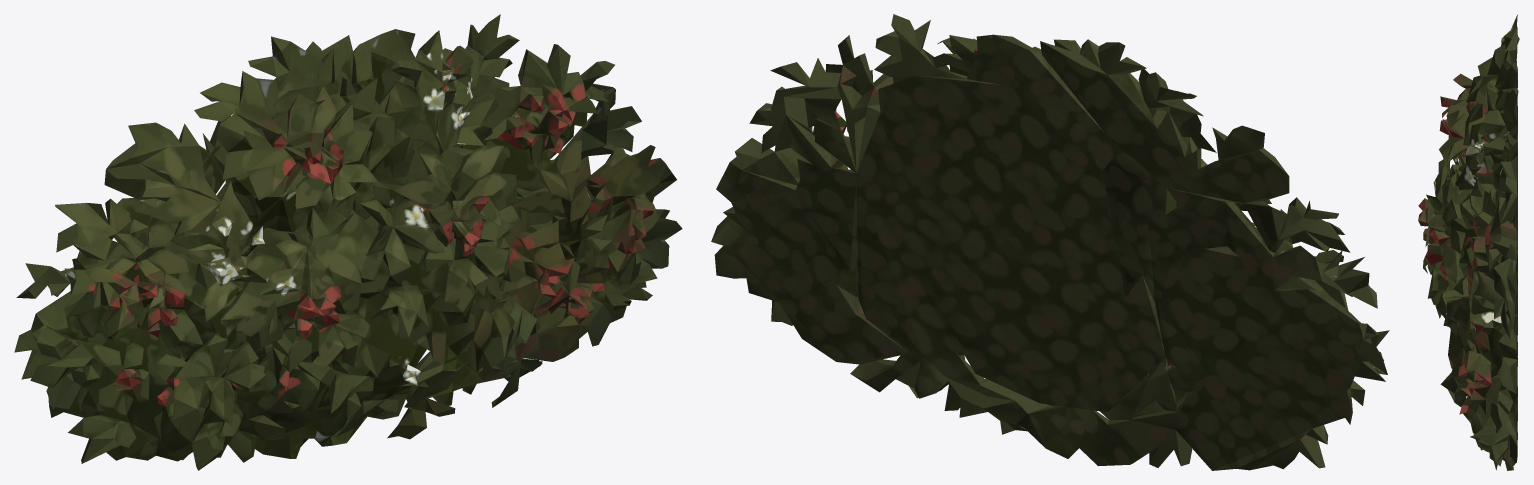
File: shrub.glb
3 renders of one model, left to right at view 1: azimuth 30°, elevation 25°; view 2: azimuth 150°, elevation 25°; view 3: azimuth 270°, elevation 25°, orthographic. The views are drawn at different scales.
Size of the model in its own units: 1.89 by 1.16 by 0.2999.
Materials: 1 (1 with a texture image).
